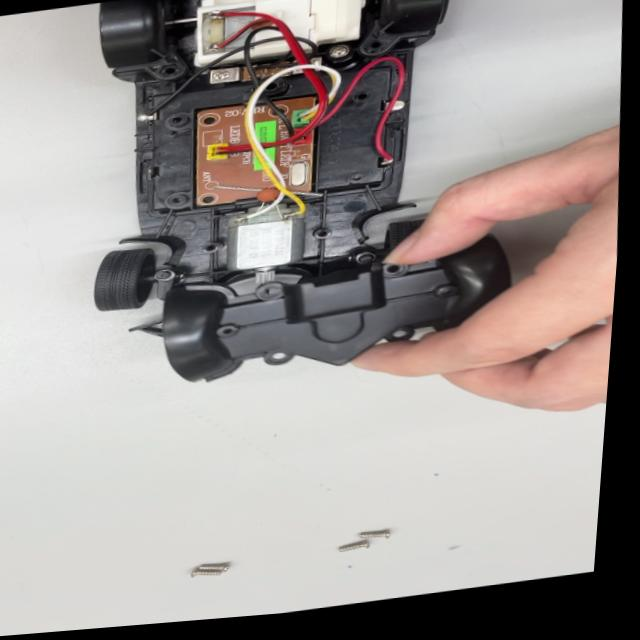motor: (226, 202, 319, 288)
motor_cover: (151, 246, 508, 396)
wheel: (69, 242, 166, 316)
